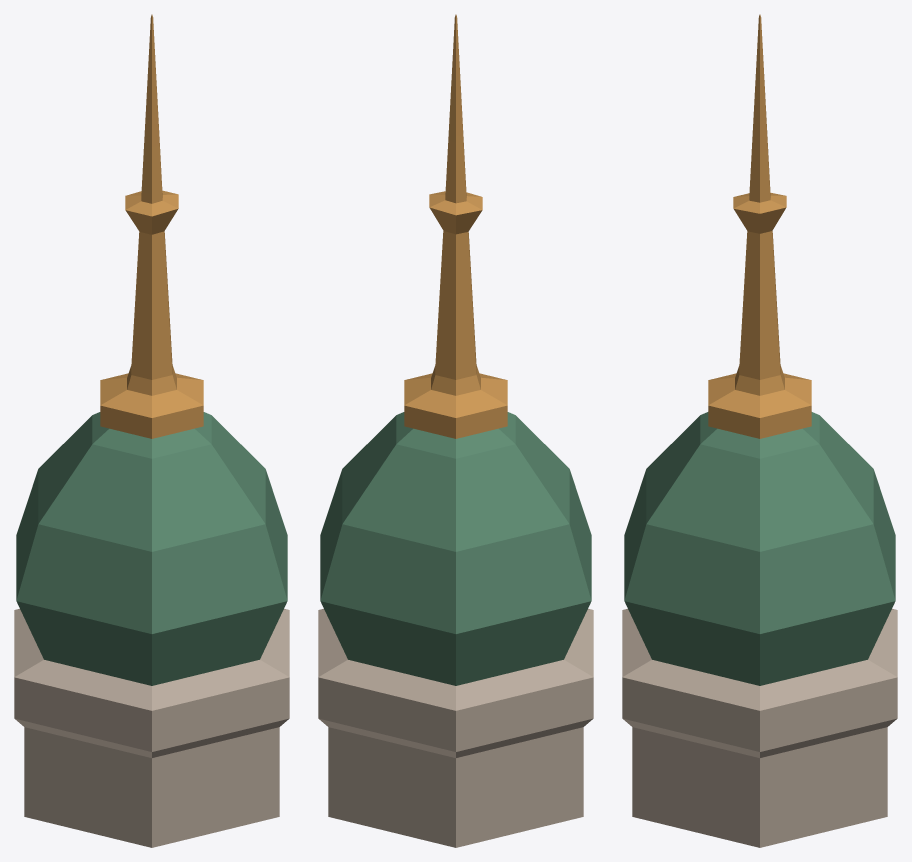
Rendered from SM_Bld_Roof_Cap_04.glb.
3 views of the same model, side by side, from view 1: azimuth 30°, elevation 25°; view 2: azimuth 150°, elevation 25°; view 3: azimuth 270°, elevation 25° (orthographic).
Visible parts, largest first — view 1: SM_Bld_Roof_Cap_04; view 2: SM_Bld_Roof_Cap_04; view 3: SM_Bld_Roof_Cap_04.
Part boxes in pixels (<box>): SM_Bld_Roof_Cap_04: <box>14,14,289,847</box>; SM_Bld_Roof_Cap_04: <box>318,14,593,847</box>; SM_Bld_Roof_Cap_04: <box>622,14,897,847</box>.
Bounding box in the file's own units: 0.7778 × 2.08 × 0.6736.
Materials: 2 (2 with a texture image).
